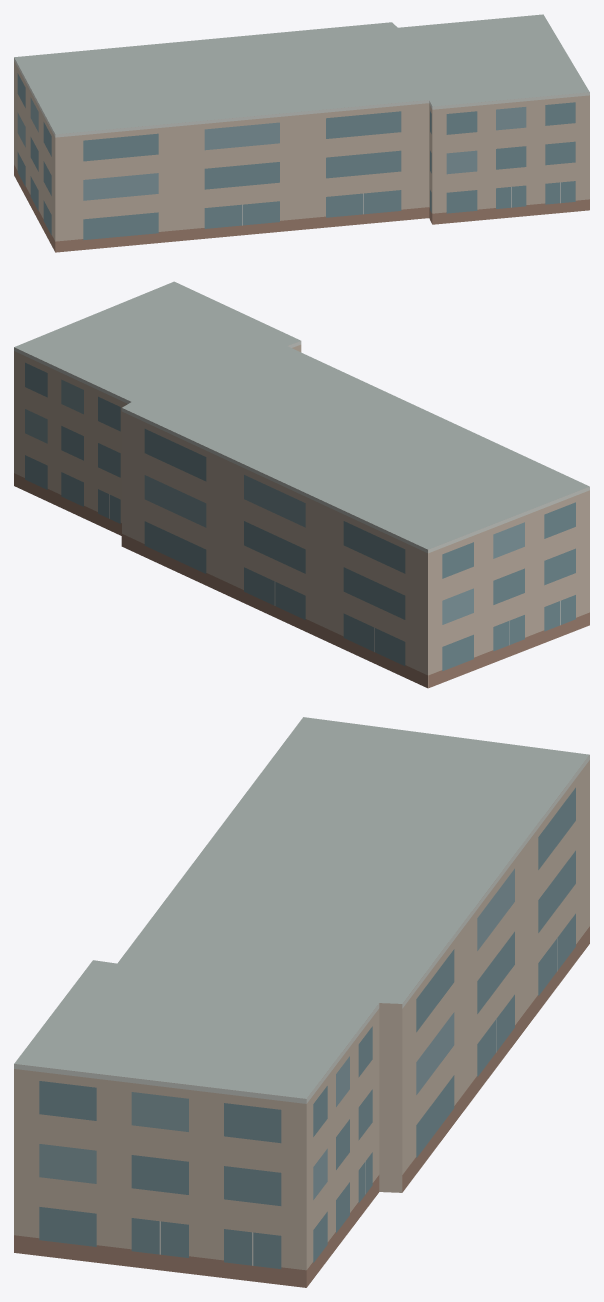
Rendered from survey-upis-32753293.glb.
The picture shows the model from 3 angles, top to bottom: view 1: azimuth 30°, elevation 25°; view 2: azimuth 150°, elevation 25°; view 3: azimuth 270°, elevation 25°; orthographic projection. The views are drawn at different scales.
Parts seen in each view (by area): view 1: survey-upis-32753293.tmp; view 2: survey-upis-32753293.tmp; view 3: survey-upis-32753293.tmp.
Boxes of the visible parts, x1,y1,x2,y2 form: survey-upis-32753293.tmp: [14, 14, 589, 252]; survey-upis-32753293.tmp: [14, 281, 589, 688]; survey-upis-32753293.tmp: [14, 717, 589, 1287].
Bounding box in the file's own units: 39.67 × 9.15 × 25.28.
